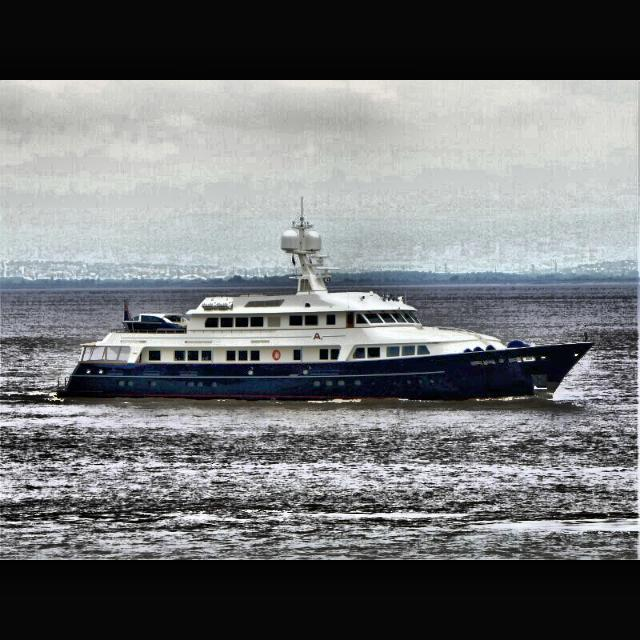yacht: (55, 215, 598, 401)
